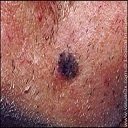Carcinoma: (58, 52, 78, 83)
